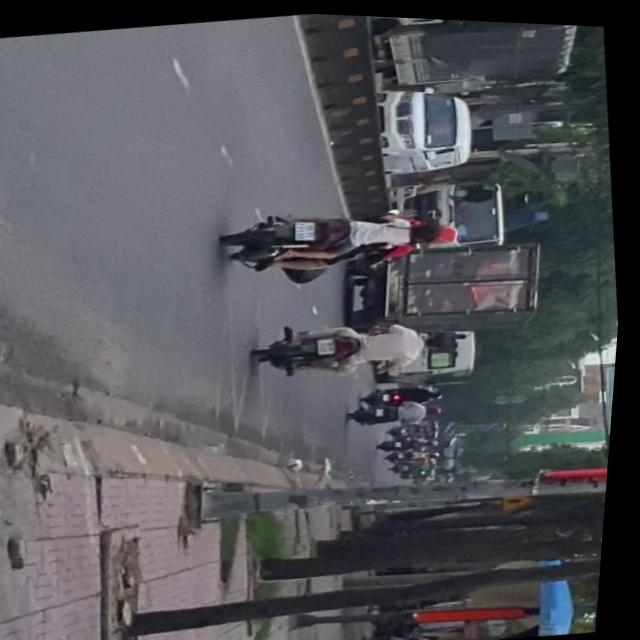helmet: (431, 212, 465, 240)
licenseplate: (220, 182, 470, 286)
motorcyclist: (398, 210, 448, 241)
nohelmet: (297, 215, 321, 236)
